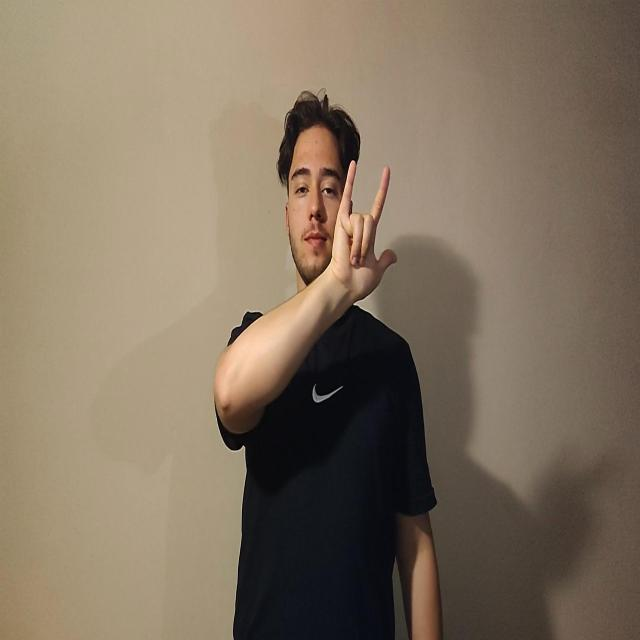iloveyou: (330, 158, 397, 305)
